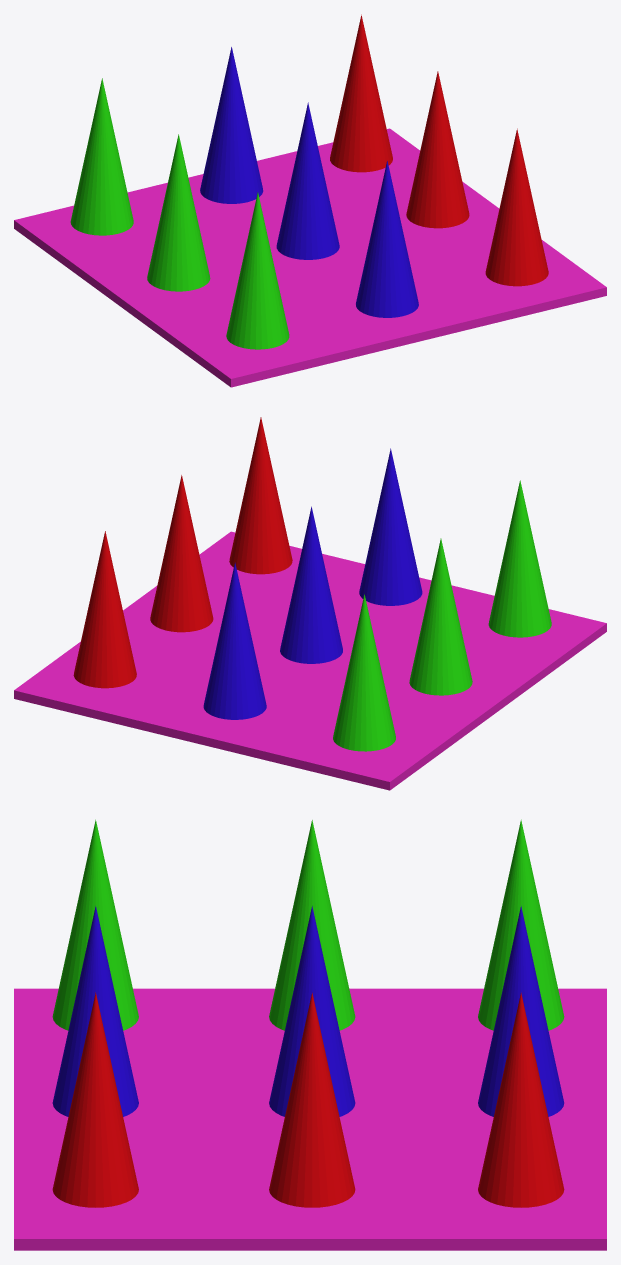
File: przeszkoda.fbx
3 renders of one model, top to bottom at view 1: azimuth 30°, elevation 25°; view 2: azimuth 150°, elevation 25°; view 3: azimuth 270°, elevation 25°, orthographic. The views are drawn at different scales.
Parts seen in each view (by area): view 1: Cube; view 2: Cube; view 3: Cube.
Part boxes in pixels (x1,y1,x2,y2): Cube: (14, 14, 606, 387); Cube: (14, 417, 606, 790); Cube: (14, 819, 606, 1250).
Bounding box in the file's own units: 133 × 54.24 × 133.
